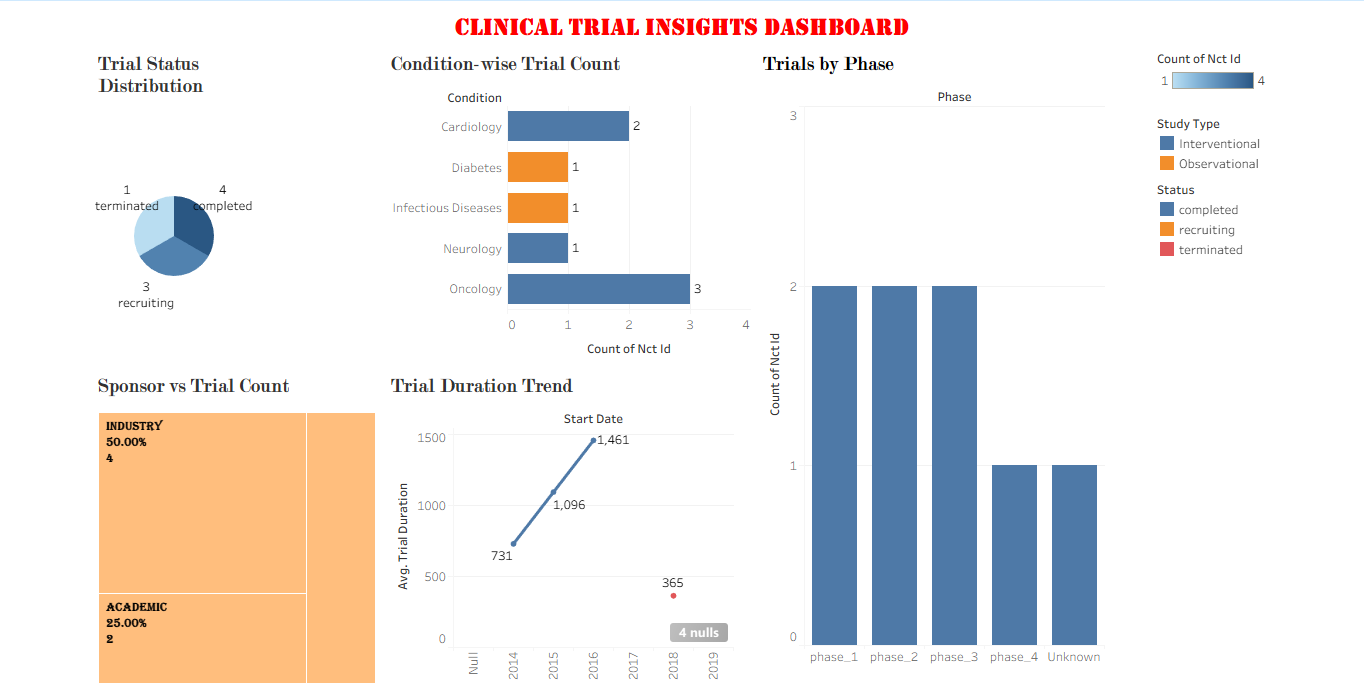

Layout of this report page (visuals, bound fields, positions):
{"tool":"tableau","page":{"name":"Clinical Trial Insights Dashboard","canvas":[1000,1000],"units":"permille","ordinal":0},"visuals":[{"type":"title","box":[7.1,14.3,985.8,66.1]},{"type":"worksheet","title":"Trial Status Distribution","mark":"Pie","box":[7.1,80.4,241.8,451.8]},{"type":"worksheet","title":"Condition-wise Trial Count","mark":"Automatic","rows":["condition"],"cols":["nct_id"],"box":[249,80.4,307.6,452.7]},{"type":"worksheet","title":"Trials by Phase","mark":"Automatic","rows":["nct_id"],"cols":["phase"],"box":[556.5,80.4,328.7,905.3]},{"type":"legend","title":"Trial Status Distribution","param":"[federated.1onfnru0cabpat1ab1e1g13fnrcj].[cnt:nct_id:qk]","box":[885.2,80.4,107.7,116.1]},{"type":"legend","title":"Condition-wise Trial Count","param":"[federated.1onfnru0cabpat1ab1e1g13fnrcj].[none:study_type:nk]","box":[885.2,196.5,107.7,117.9]},{"type":"legend","title":"Trial Duration Trend ","param":"[federated.1onfnru0cabpat1ab1e1g13fnrcj].[none:status:nk]","box":[885.2,314.3,107.7,153.6]},{"type":"worksheet","title":"Sponsor vs Trial Count","mark":"Automatic","box":[7.1,532.1,241.8,453.6]},{"type":"worksheet","title":"Trial Duration Trend ","mark":"Automatic","rows":["trial_duration"],"cols":["start_date"],"box":[249,533,307.6,452.7]}]}

Visuals, with their boxes on the dashboard's canvas, which has no fixed pixel size, in thousandths of its width and height (x1, y1, x2, y2). These are canvas units, not pixel positions in the 1364x697 screenshot, which may show the page scaled, cropped or inside an application window:
title: 7:14:993:80
"Trial Status Distribution" worksheet (Pie marks): 7:80:249:532
"Condition-wise Trial Count" worksheet: 249:80:557:533
"Trials by Phase" worksheet: 556:80:885:986
"Trial Status Distribution" legend: 885:80:993:196
"Condition-wise Trial Count" legend: 885:196:993:314
"Trial Duration Trend " legend: 885:314:993:468
"Sponsor vs Trial Count" worksheet: 7:532:249:986
"Trial Duration Trend " worksheet: 249:533:557:986
